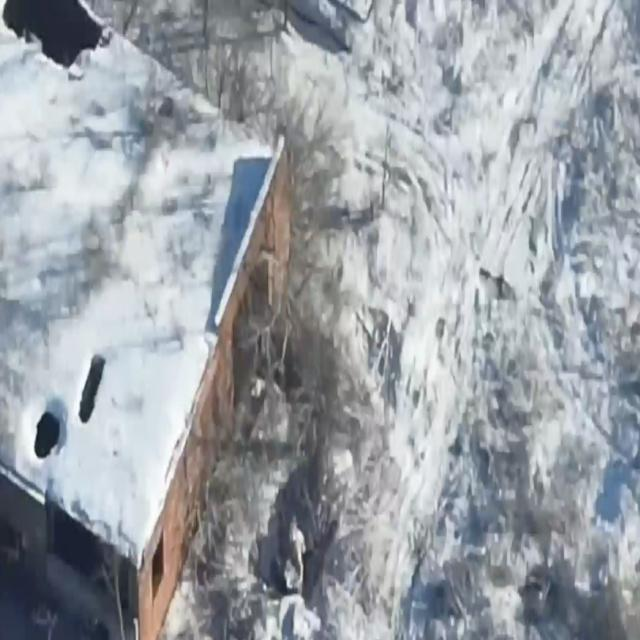vehicle: (265, 449, 346, 596)
